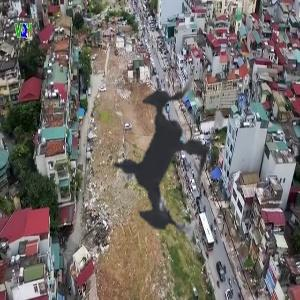drone: (44, 32, 288, 276)
